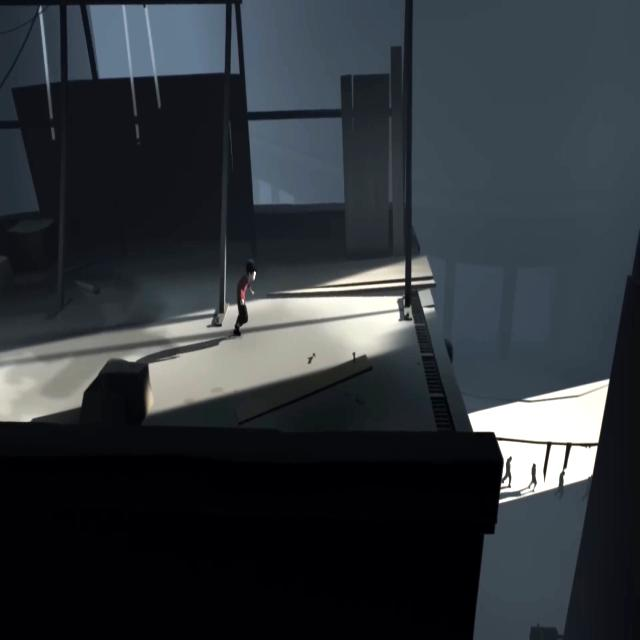boy: (233, 259, 257, 337)
zombie: (554, 471, 566, 500), (502, 455, 512, 488), (582, 475, 592, 502), (528, 463, 537, 492)
